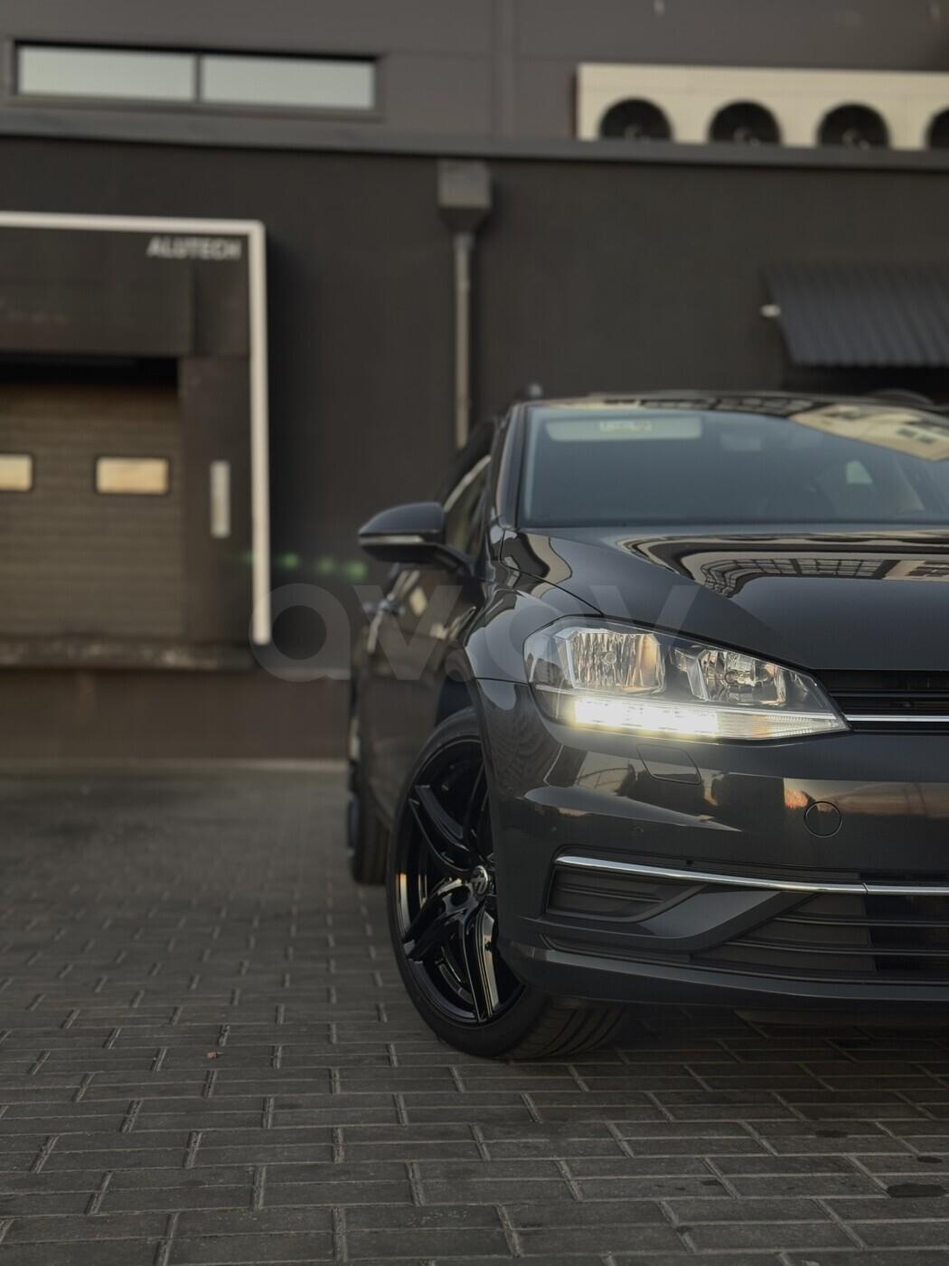Golf_2017-2021: (321, 376, 949, 1033)
